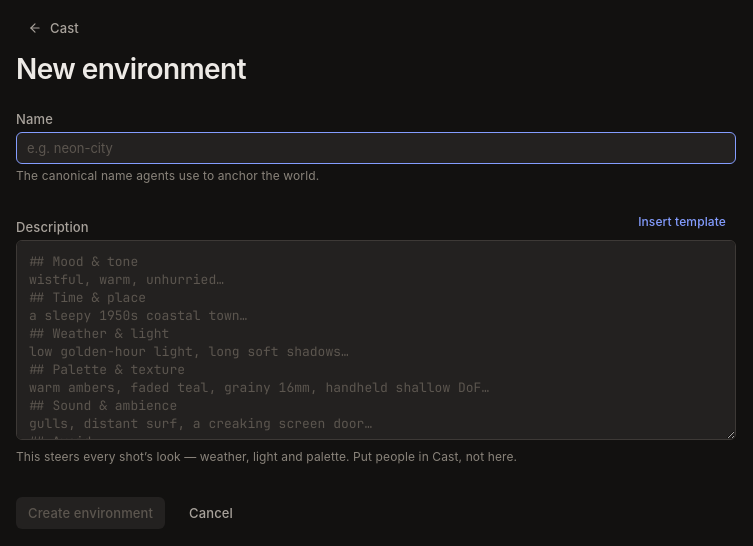
Environment — create mode › flags invalid and duplicate names with a persistent caption and disables Create
Type ".bad" into the field labelled "Name" at point(376, 148), box [16, 132, 736, 164]
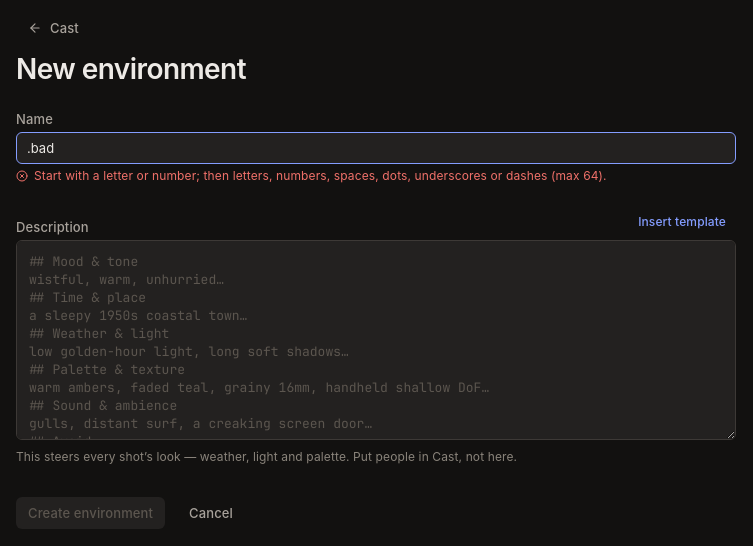
Expected: the button "Create environment" is disabled, [16, 497, 165, 529]
Now the text "Start with a letter or number" is shown, box [34, 168, 607, 183]
Replace the text in the field labelled "Name" with "Neon City" at point(376, 148), box [16, 132, 736, 164]
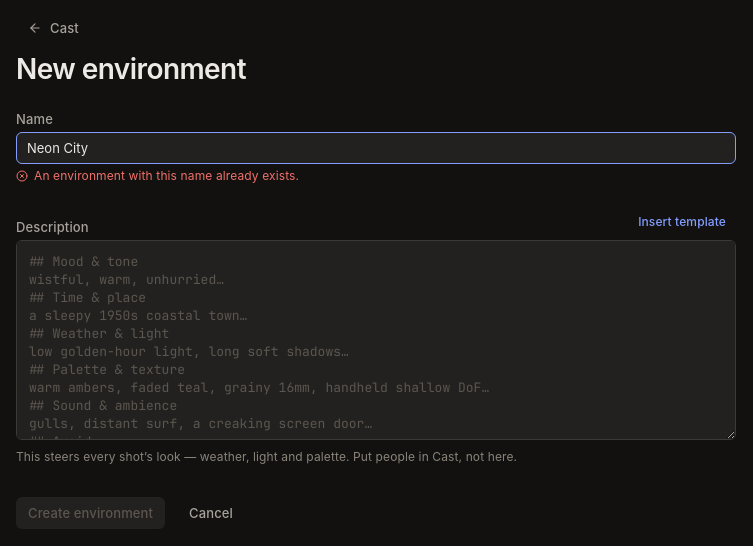
Expected: the button "Create environment" is disabled, [16, 497, 165, 529]
Now the text "An environment with this name already exists." is shown, box [16, 168, 299, 183]
